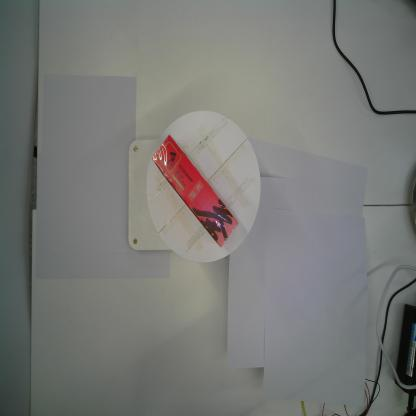Instant Drink: (151, 132, 240, 248)
